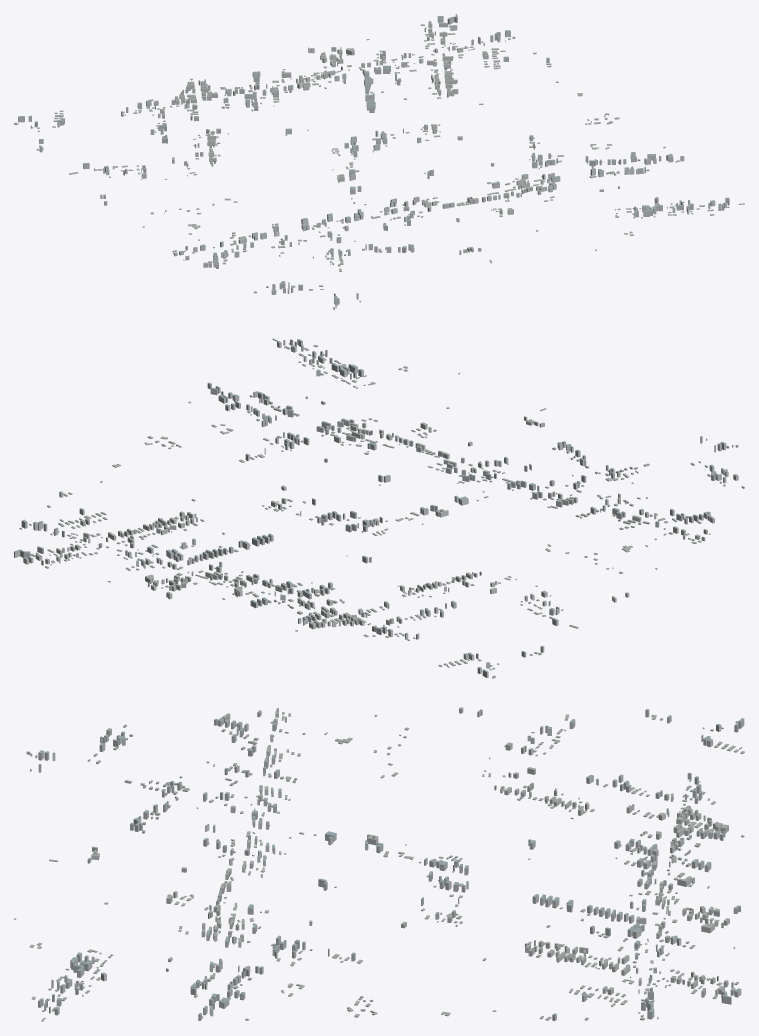
The model's file is far.glb.
The picture shows the model from 3 angles, top to bottom: view 1: azimuth 30°, elevation 25°; view 2: azimuth 150°, elevation 25°; view 3: azimuth 270°, elevation 25°; orthographic projection. The views are drawn at different scales.
Bounding box in the file's own units: 2090 × 26.65 × 2082.
